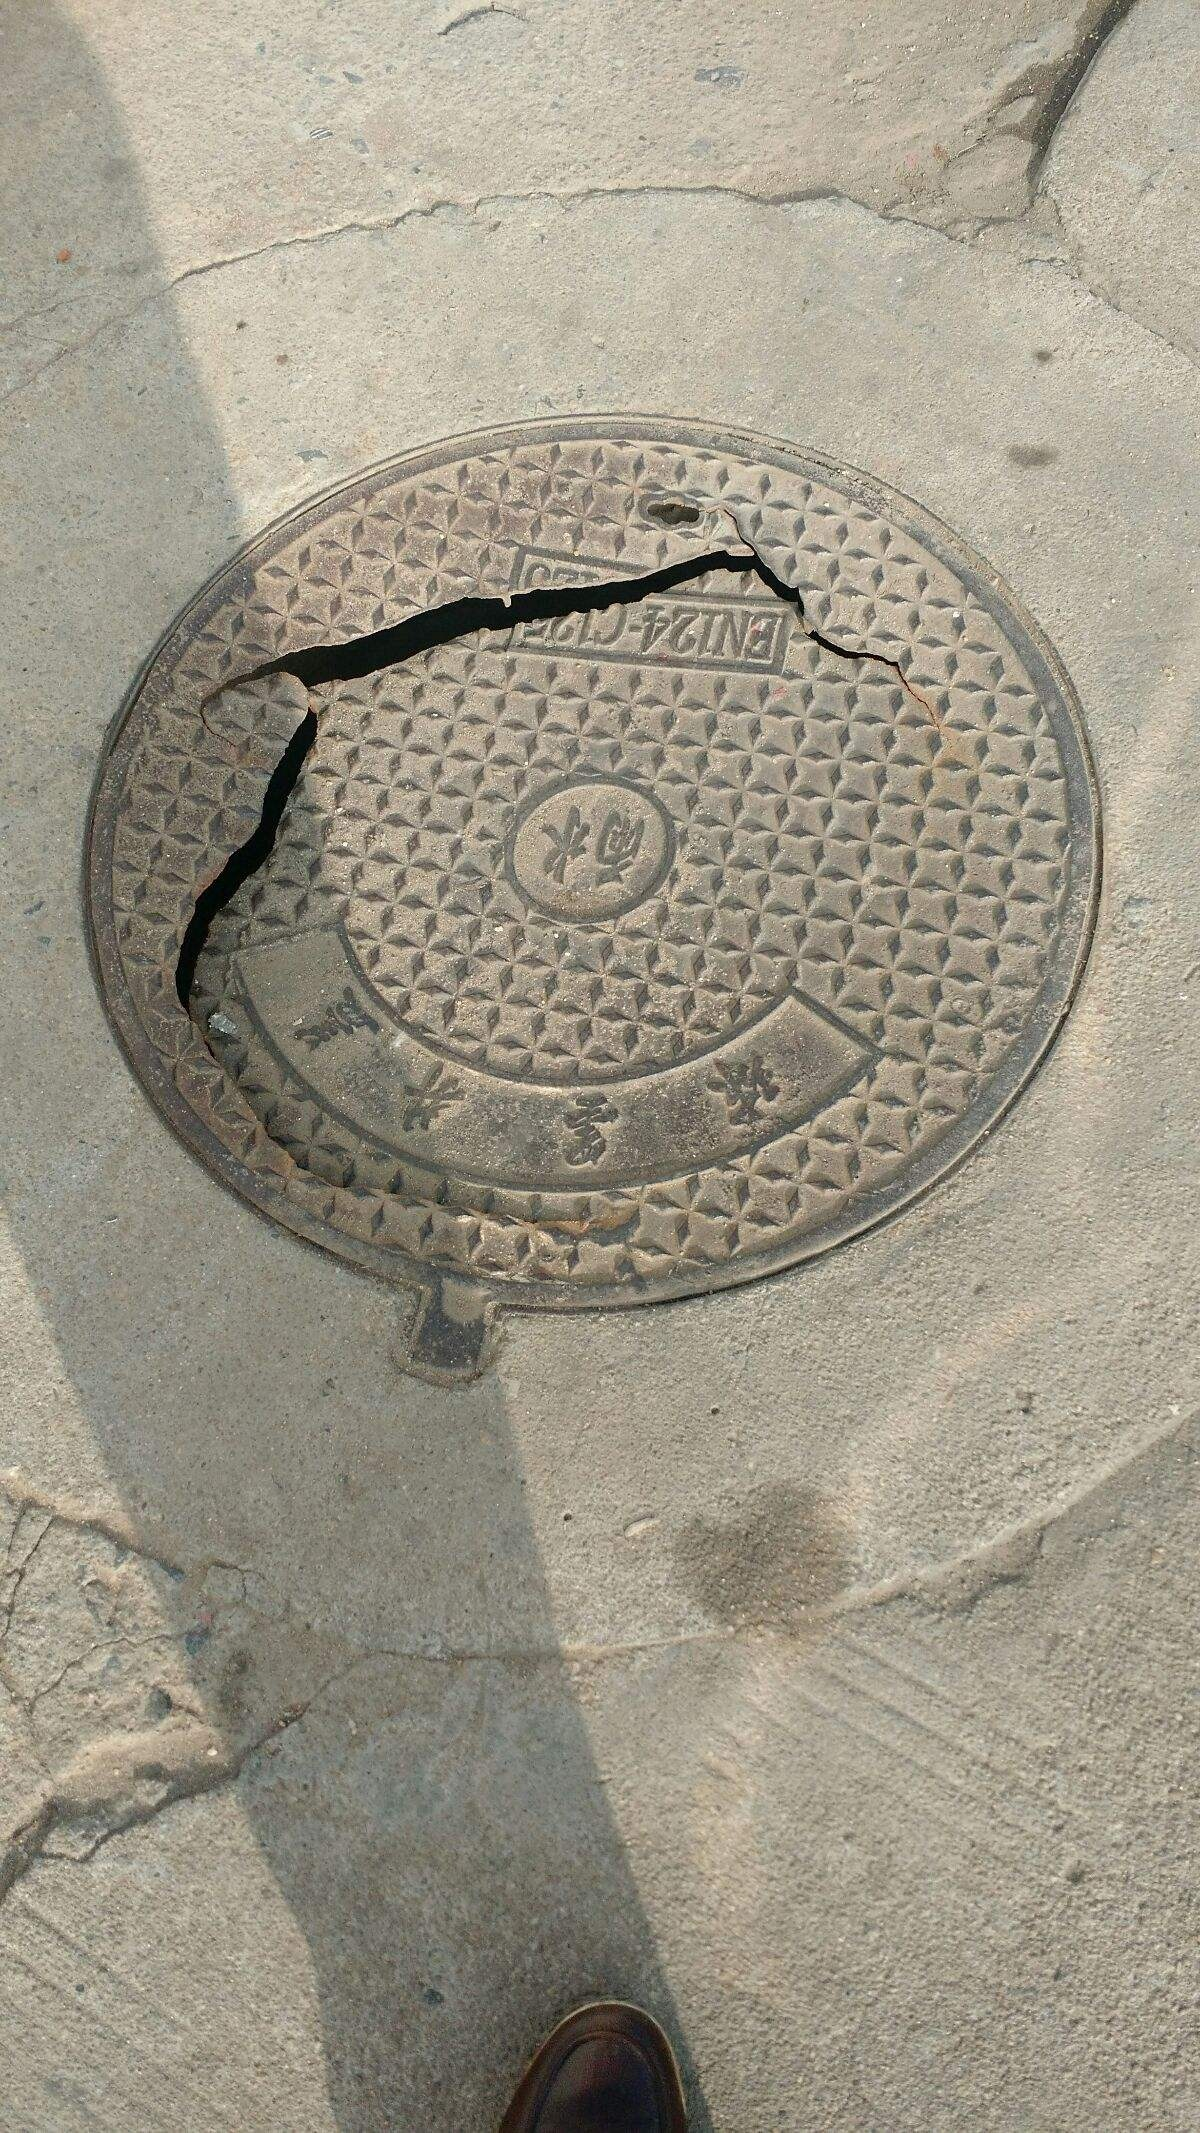broke: (81, 412, 1108, 1395)
